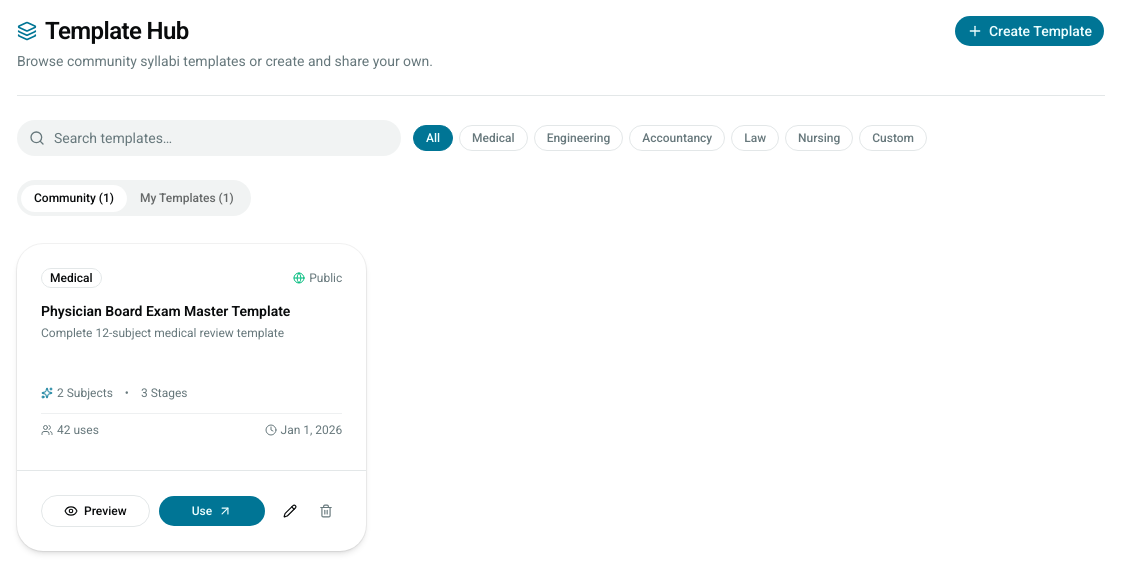
it: Template UI Components Test Suite › TemplateHubClient Component › renders community templates and supports search filtering
The width and height of the screenshot is (1122, 572).
Expected: the heading "Template Hub" is shown, [17,17,189,45]
Expected: the text "Physician Board Exam Master Template" is shown, [41,303,290,319]
Note: Filter by search query
Step 1. Type "NonExistentSubject" into the field with placeholder "Search templates…" → x=209, y=138, box [17,120,401,156]
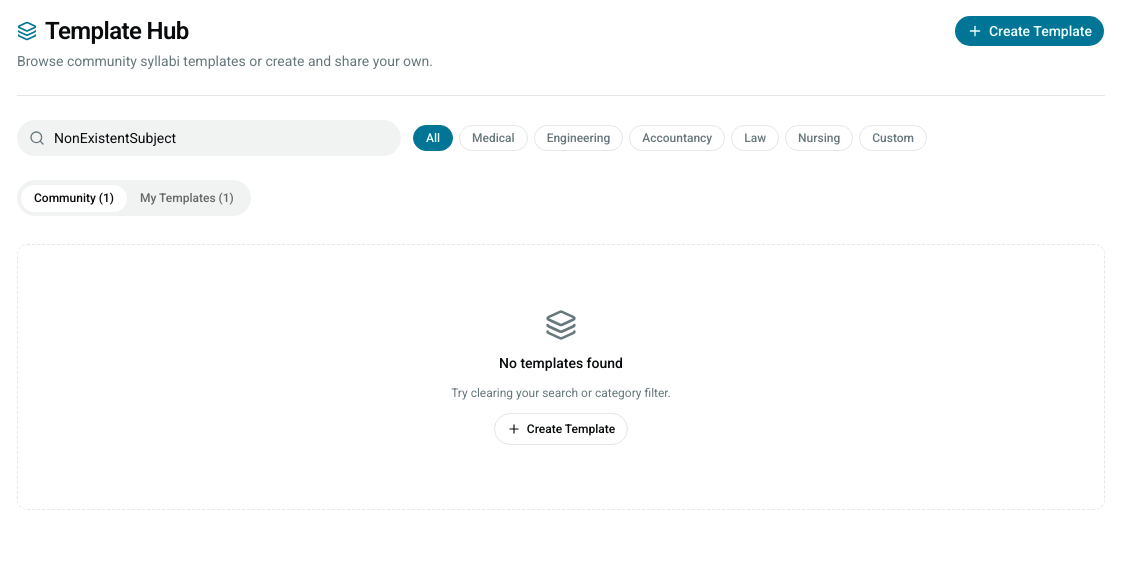
Now the text "No templates found" is shown, box [499,353,623,373]
